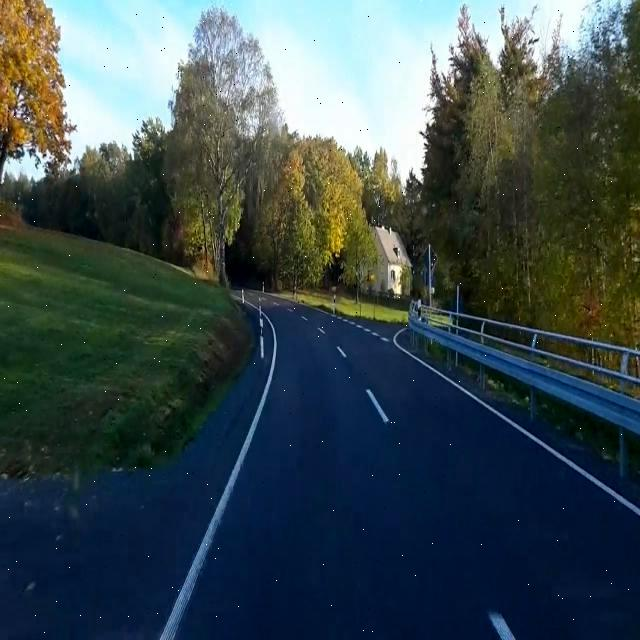lane: (392, 329, 640, 517), (159, 315, 278, 640), (367, 389, 390, 423), (489, 611, 516, 639), (337, 346, 348, 357)
road: (177, 298, 640, 639), (1, 323, 273, 639)
